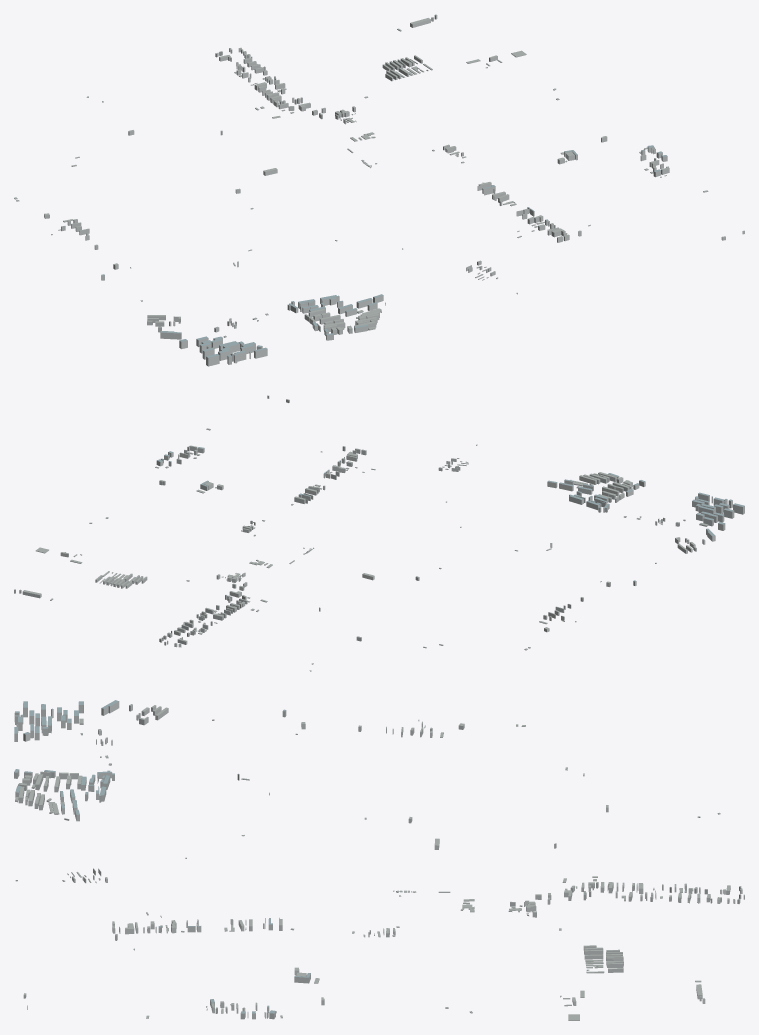
3 renders of one model, top to bottom at view 1: azimuth 30°, elevation 25°; view 2: azimuth 150°, elevation 25°; view 3: azimuth 270°, elevation 25°, orthographic. The views are drawn at different scales.
Parts seen in each view (by area): view 1: 上海全域建筑分块 · mapped building neighborhood; view 2: 上海全域建筑分块 · mapped building neighborhood; view 3: 上海全域建筑分块 · mapped building neighborhood.
Boxes of the visible parts, x1,y1,x2,y2 form: 上海全域建筑分块 · mapped building neighborhood: (14, 14, 744, 366); 上海全域建筑分块 · mapped building neighborhood: (14, 395, 744, 671); 上海全域建筑分块 · mapped building neighborhood: (14, 700, 744, 1020).
Bounding box in the file's own units: 2136 × 31.04 × 2103.
